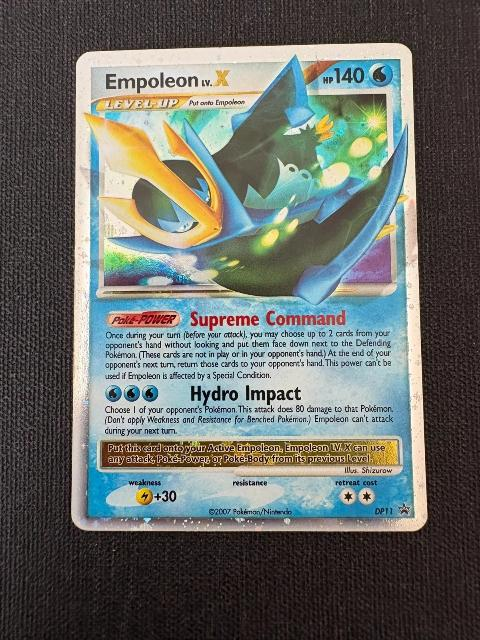Card: (66, 38, 432, 536)
Name: (103, 65, 235, 96)
